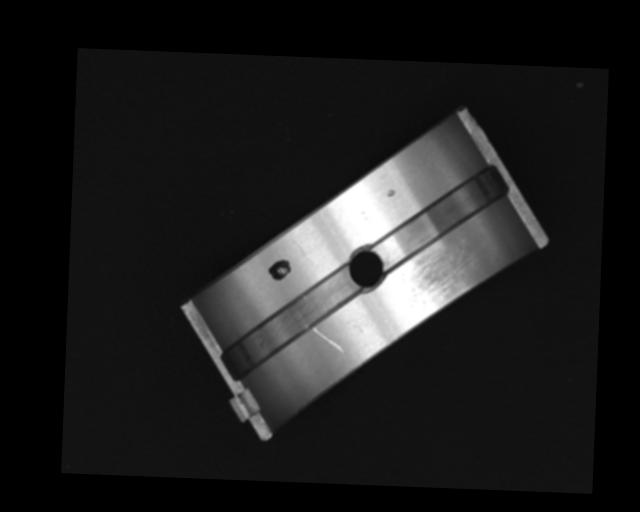blot: (267, 258, 292, 282)
bruise: (386, 189, 395, 197)
gap: (218, 263, 361, 388), (374, 160, 510, 270)
hole: (347, 244, 388, 291)
nick: (311, 325, 346, 353), (291, 236, 313, 269)
scratch: (401, 244, 478, 321)
